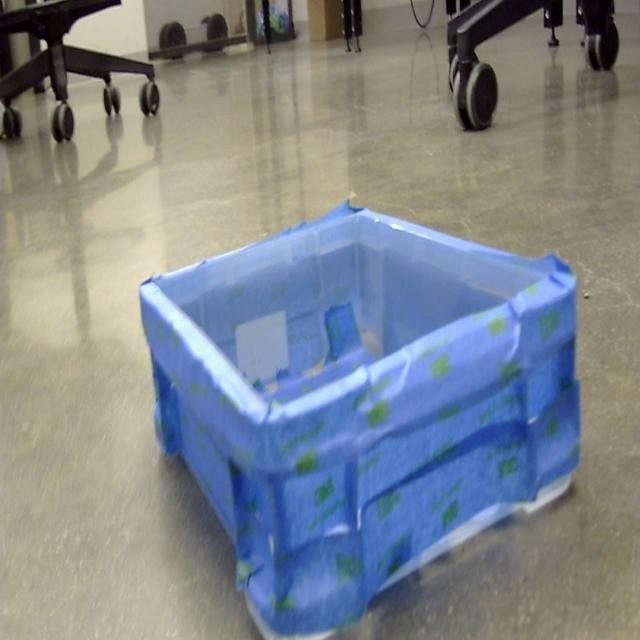bucket: (136, 201, 582, 640)
